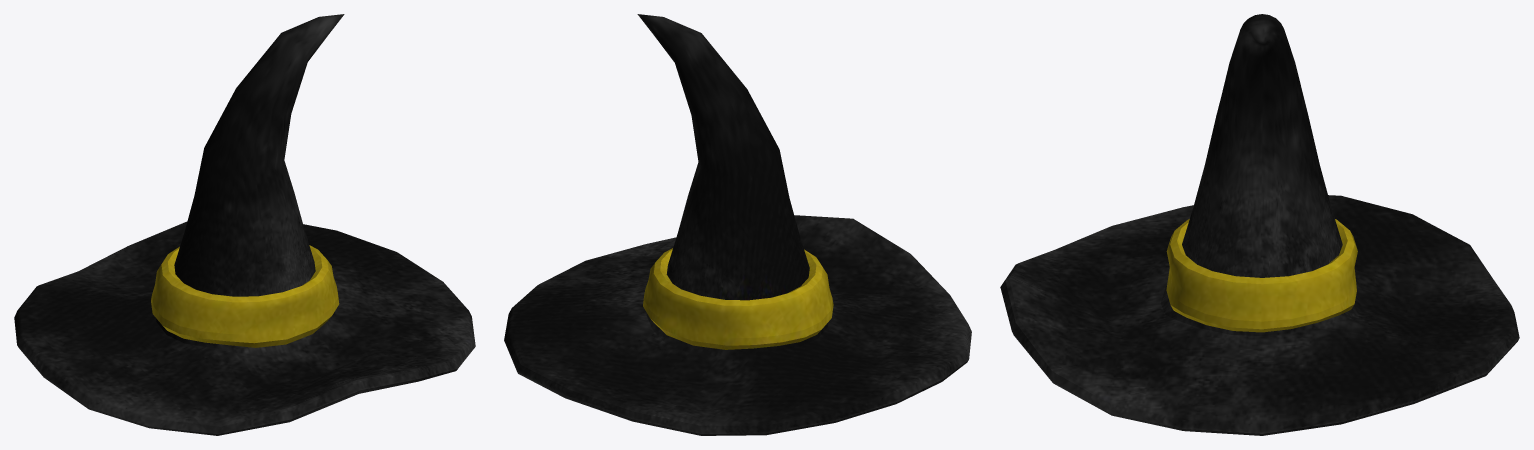
File: outfit_witch_hat.glb
3 renders of one model, left to right at view 1: azimuth 30°, elevation 25°; view 2: azimuth 150°, elevation 25°; view 3: azimuth 270°, elevation 25°, orthographic. The views are drawn at different scales.
Parts seen in each view (by area): view 1: outfit_witch_hat; view 2: outfit_witch_hat; view 3: outfit_witch_hat.
Part boxes in pixels (left/top/right/bottom): outfit_witch_hat: left=14, top=14, right=475, bottom=435; outfit_witch_hat: left=504, top=14, right=971, bottom=435; outfit_witch_hat: left=1000, top=14, right=1519, bottom=435.
Bounding box in the file's own units: 0.4133 × 0.3 × 0.4063.
Materials: 1 (1 with a texture image).
